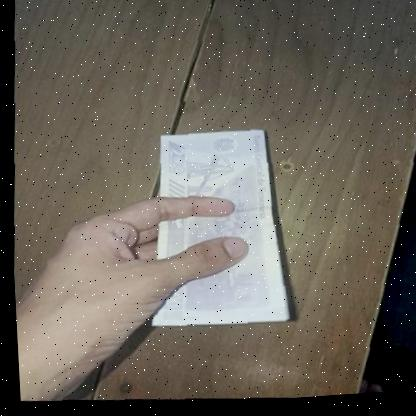vef_back: (139, 124, 300, 338)
